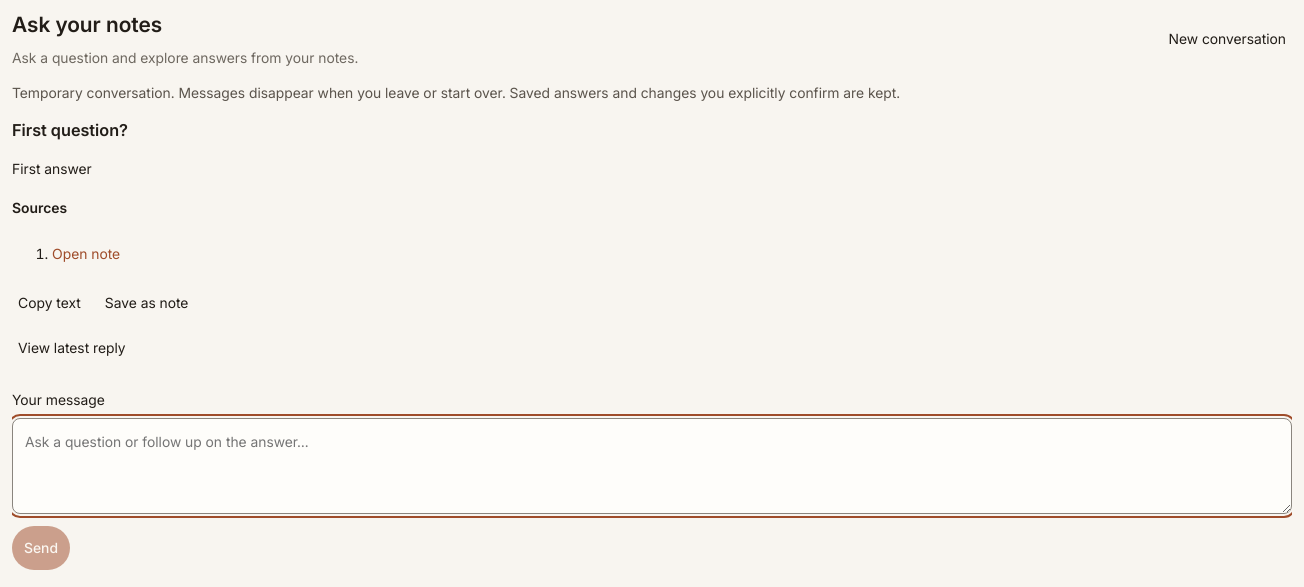
Test: keeps an adopted handle and per-answer Save alive through StrictMode's effect rehearsal, then clears on real unmount
This screenshot has width=1304, height=587.
Click the button "Save as note" at {"x": 147, "y": 303}, box [99,292,194,314]
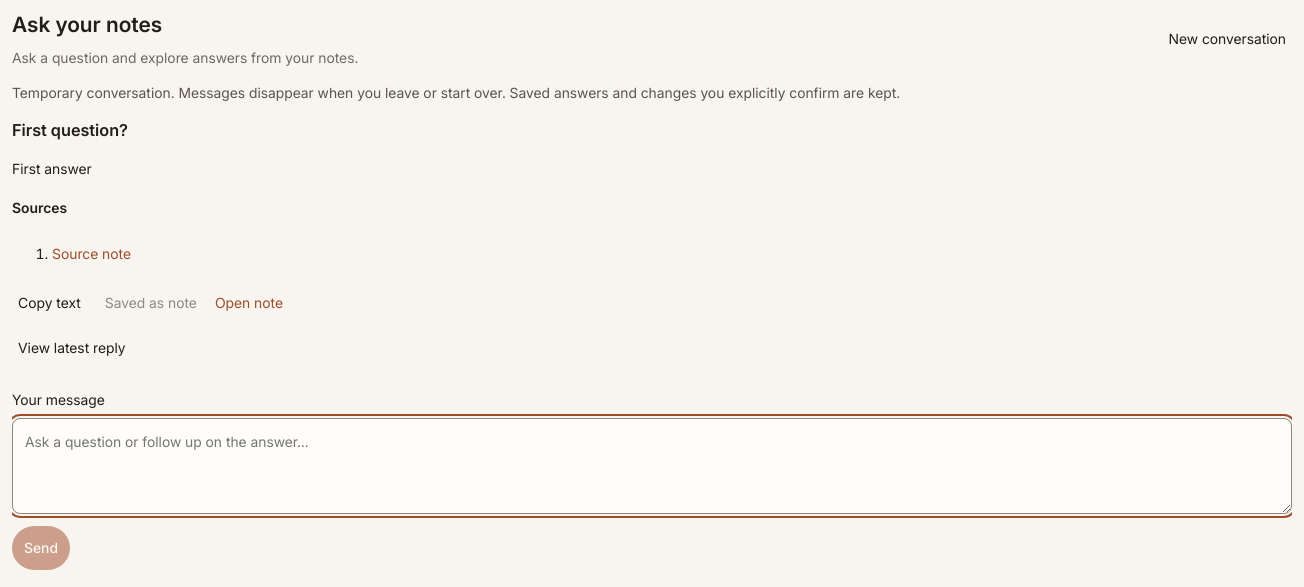
Result: the button "Saved as note" is shown at [99,292,203,314]
